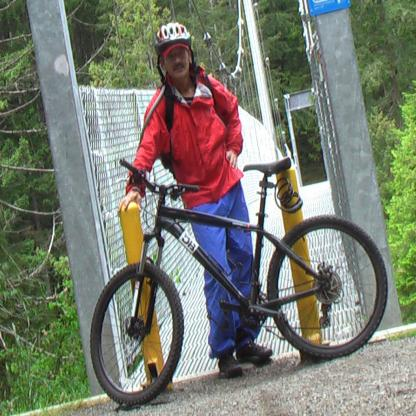Helmet: (155, 20, 196, 92)
